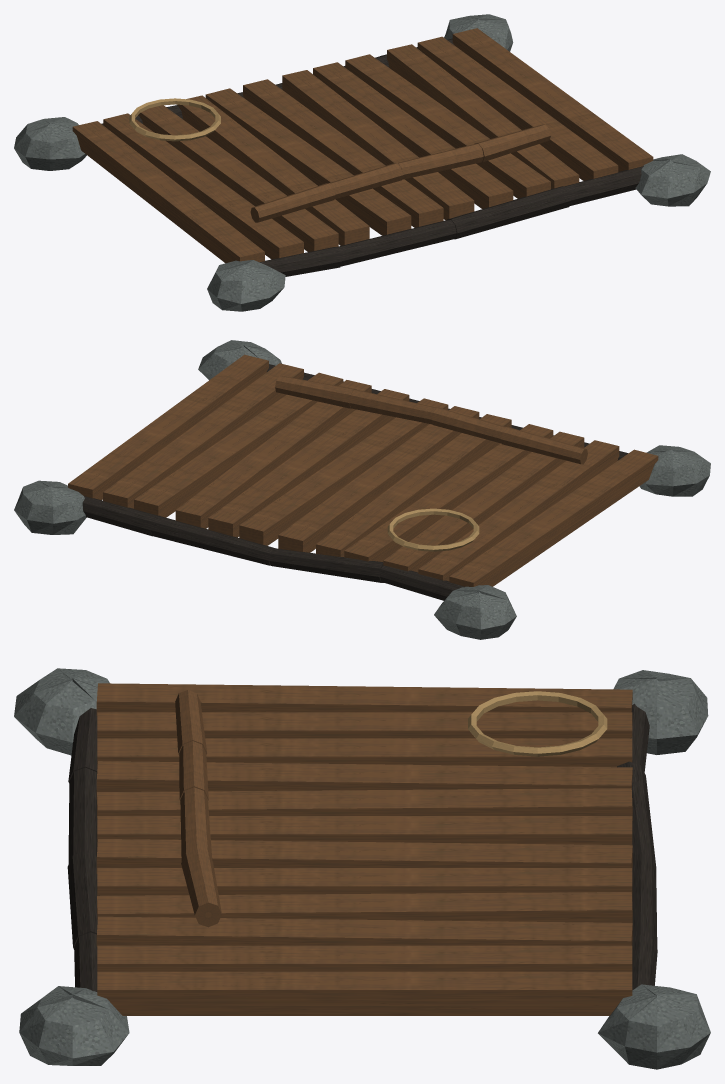
File: cs-001_shelter_foundation.obj
3 renders of one model, top to bottom at view 1: azimuth 30°, elevation 25°; view 2: azimuth 150°, elevation 25°; view 3: azimuth 270°, elevation 25°, orthographic. The views are drawn at different scales.
Visible parts, largest first — view 1: cs-001_shelter_foundation; view 2: cs-001_shelter_foundation; view 3: cs-001_shelter_foundation.
Boxes of the visible parts, x1,y1,x2,y2 form: cs-001_shelter_foundation: (14,14,710,311); cs-001_shelter_foundation: (14,340,710,639); cs-001_shelter_foundation: (14,668,710,1069).
Size of the model in its own units: 2.13 by 0.2774 by 1.69.
Materials: 4 (4 with a texture image).
